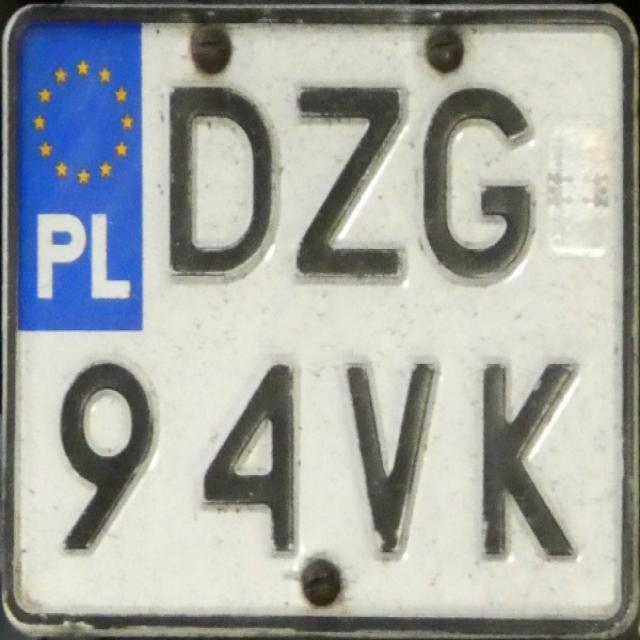pl_license_plate: (13, 22, 621, 618)
